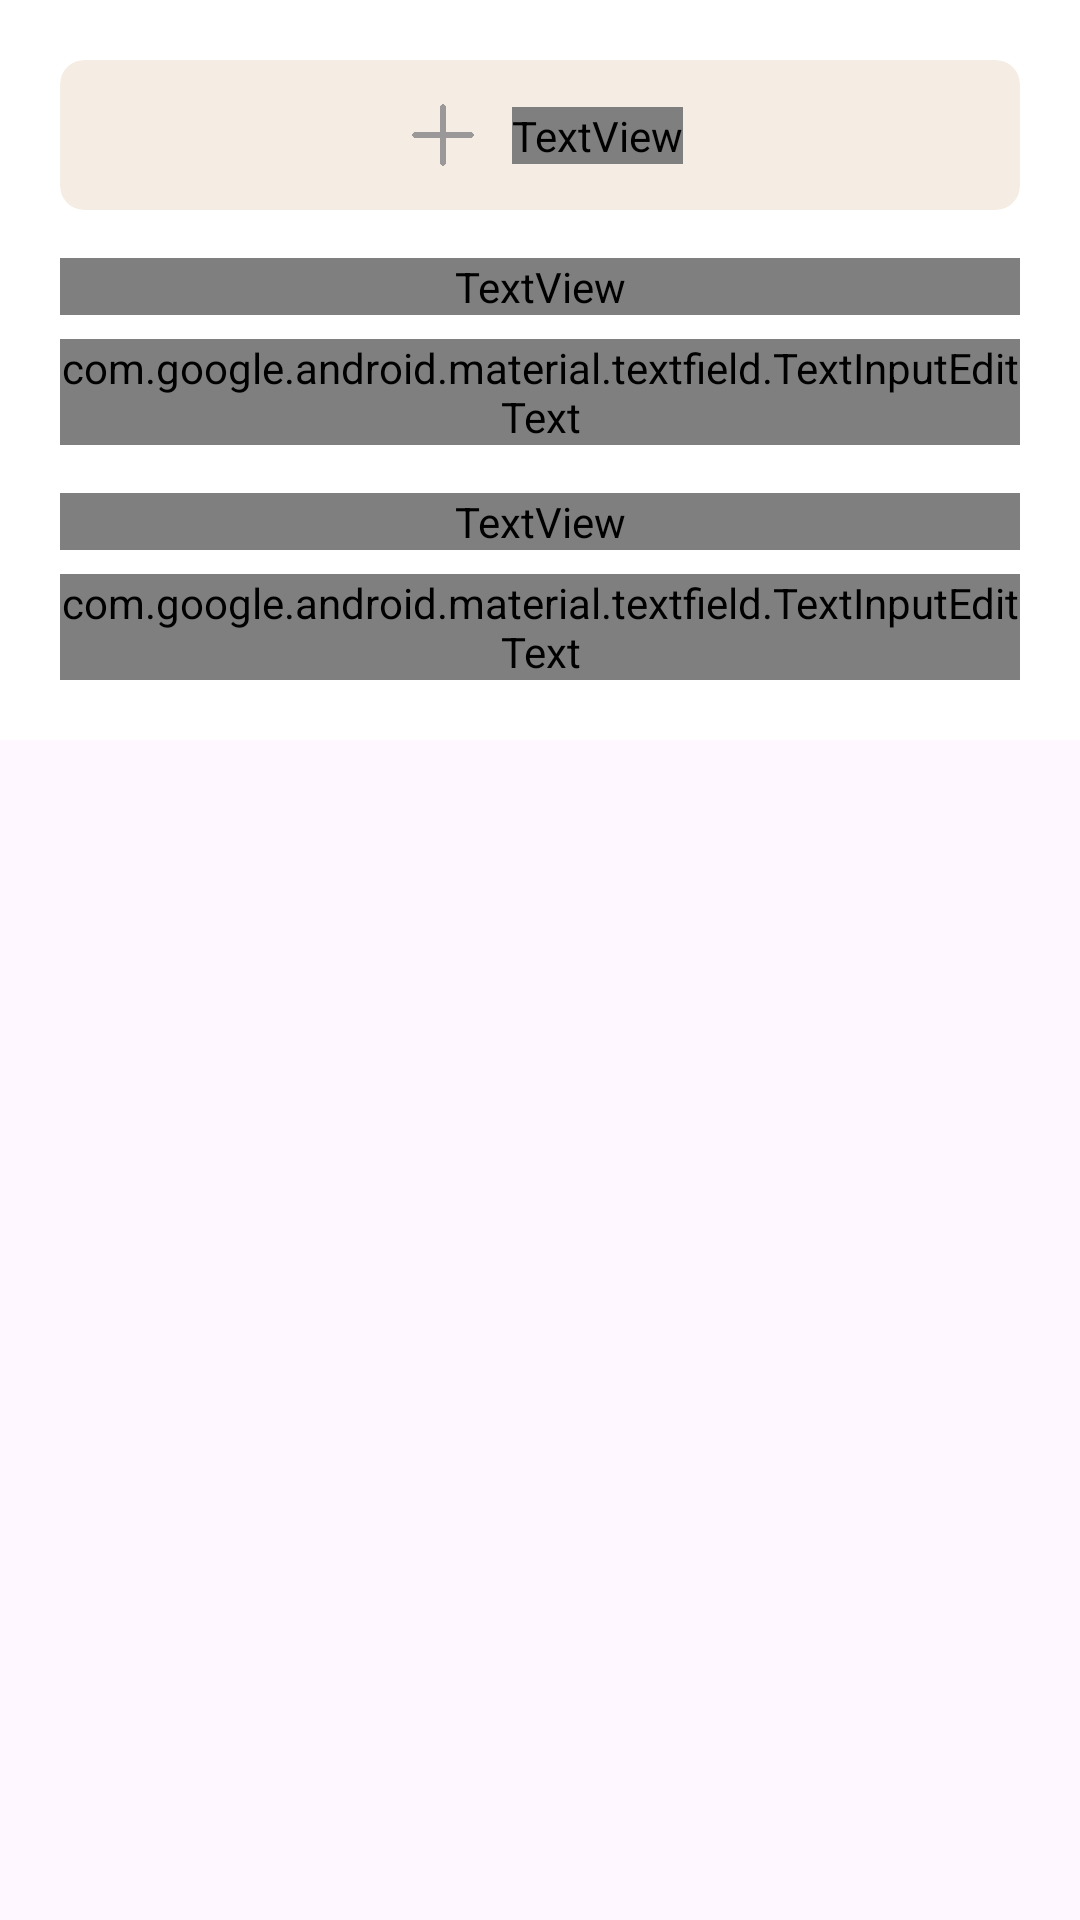

Screen size 1080px x 1920px. Icon name, then its center in pixels as [x,y]:
plus: [443,135]
